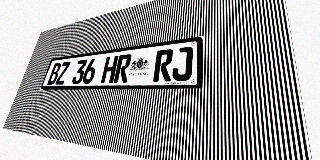3: (71, 59, 88, 84)
6: (81, 58, 98, 84)
B: (47, 62, 62, 85)
H: (100, 55, 119, 83)
J: (171, 46, 193, 81)
R: (153, 49, 174, 82), (113, 54, 132, 83)
Z: (55, 61, 71, 85)
